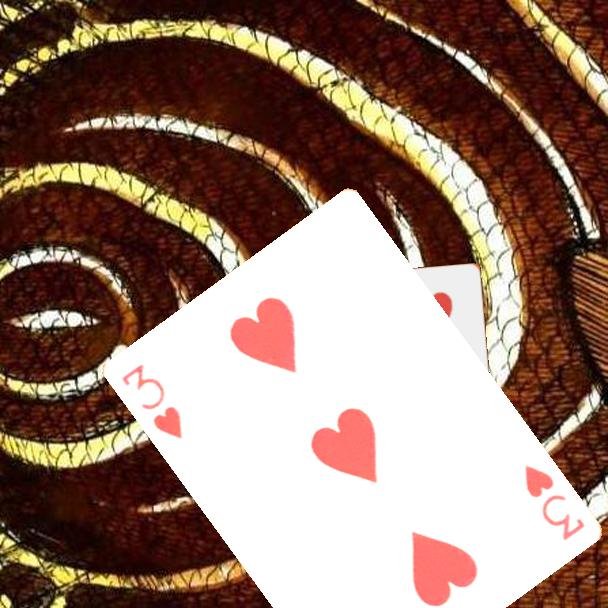h03: (520, 461, 588, 544), (117, 360, 185, 442)
